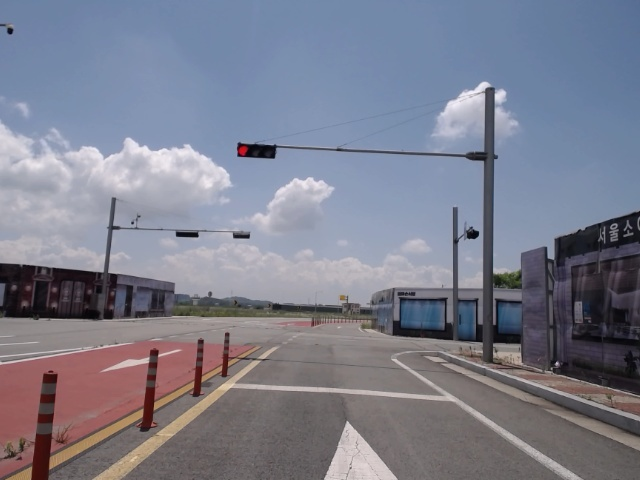red_3: (234, 141, 279, 160)
